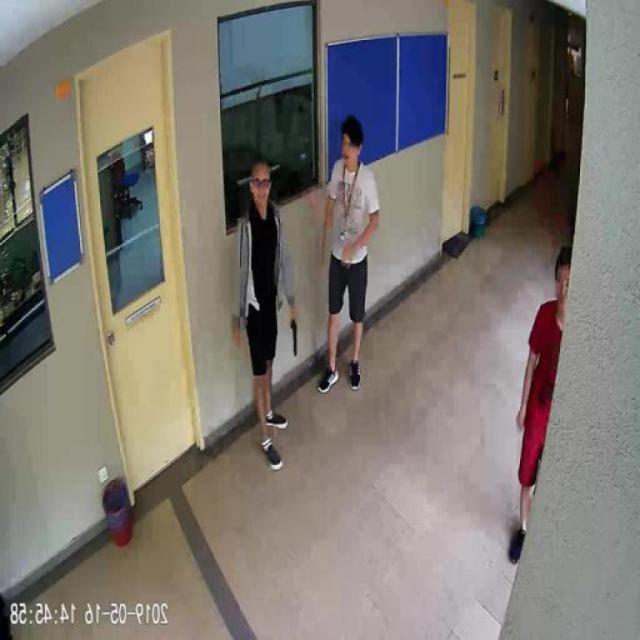pistol: (291, 312, 299, 353)
